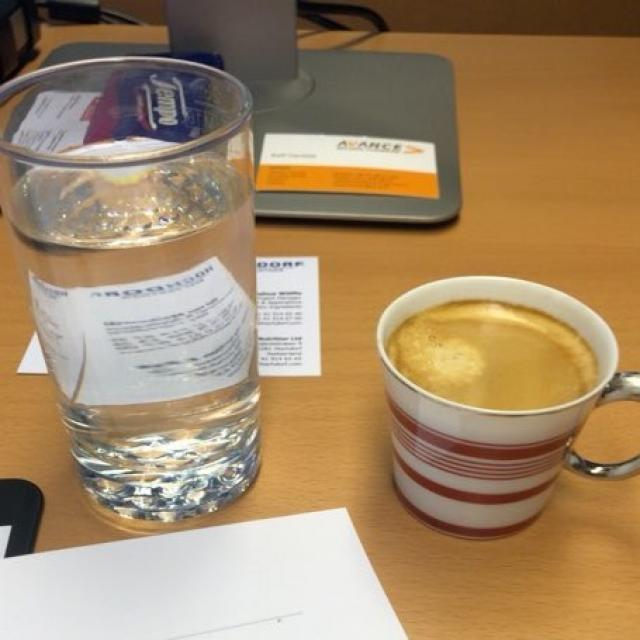espresso: (396, 302, 593, 410)
water: (10, 142, 305, 510)
